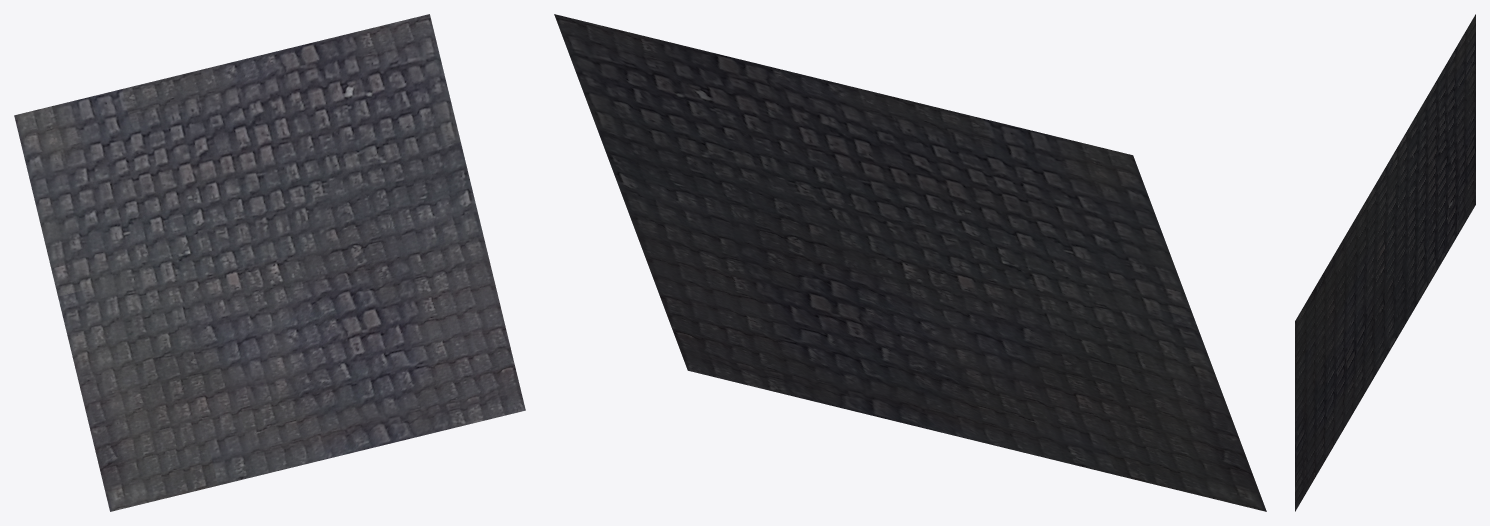
Rendered from Roof1x3-2A.fbx.
3 views of the same model, side by side, from view 1: azimuth 30°, elevation 25°; view 2: azimuth 150°, elevation 25°; view 3: azimuth 270°, elevation 25° (orthographic). The views are drawn at different scales.
Parts seen in each view (by area): view 1: Roof1x3-2A; view 2: Roof1x3-2A; view 3: Roof1x3-2A.
Boxes of the visible parts, x1=… form: Roof1x3-2A: x1=14, y1=14, x2=525, y2=511; Roof1x3-2A: x1=554, y1=14, x2=1266, y2=511; Roof1x3-2A: x1=1295, y1=14, x2=1475, y2=511.
Bounding box in the file's own units: 400 × 300 × 160.
